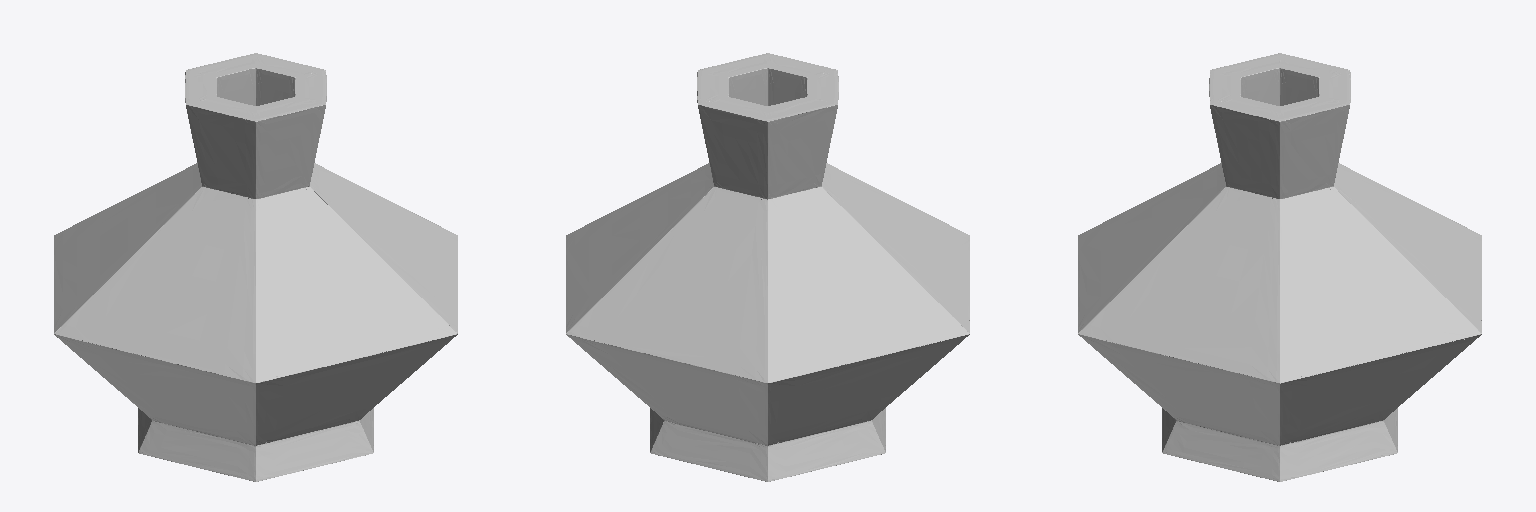
The model's file is vaso_basso.obj.
3 renders of one model, left to right at view 1: azimuth 30°, elevation 25°; view 2: azimuth 150°, elevation 25°; view 3: azimuth 270°, elevation 25°, orthographic.
Parts seen in each view (by area): view 1: Cylinder015; view 2: Cylinder015; view 3: Cylinder015.
Part boxes in pixels (bbox=[...]): Cylinder015: bbox=[54, 53, 457, 481]; Cylinder015: bbox=[566, 53, 969, 481]; Cylinder015: bbox=[1078, 53, 1481, 481].
Bounding box in the file's own units: 0.441 × 0.3524 × 0.3826.